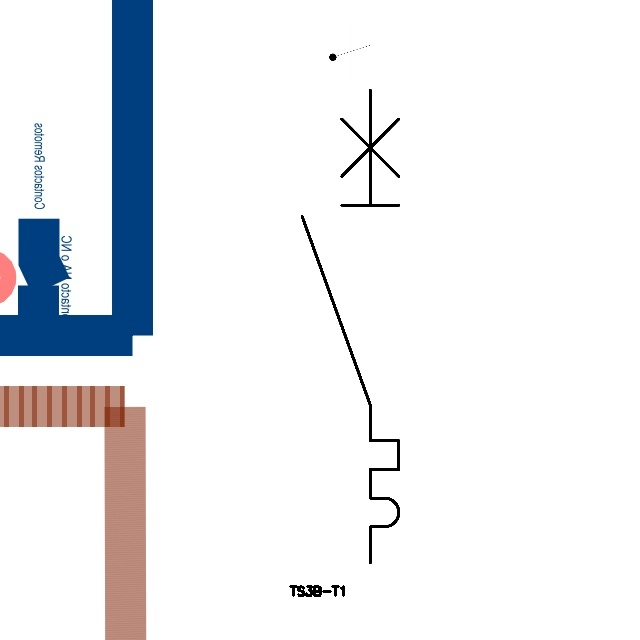interruptor_termomagnetico: (290, 78, 411, 575)
